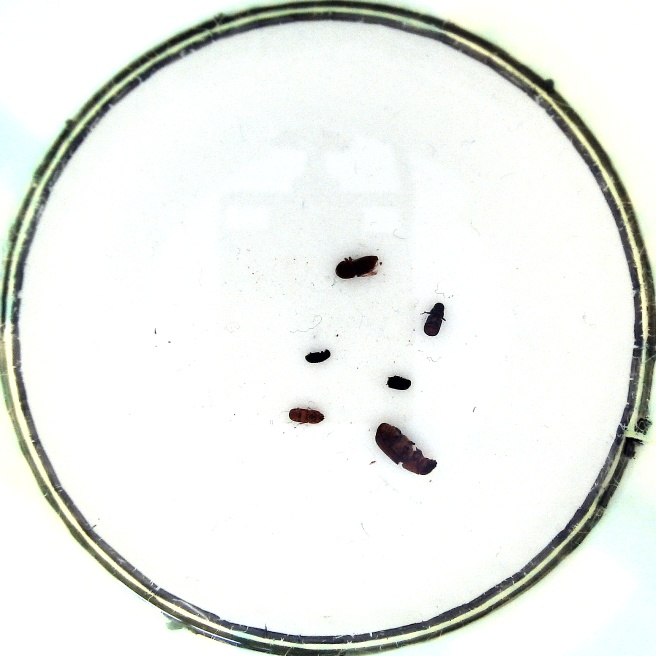acuminatus: (288, 406, 327, 426)
armandi: (417, 301, 446, 340)
coleoptera: (383, 371, 412, 392), (305, 346, 332, 367)
leconte: (373, 422, 439, 476)
linnaeus: (331, 250, 381, 284)
